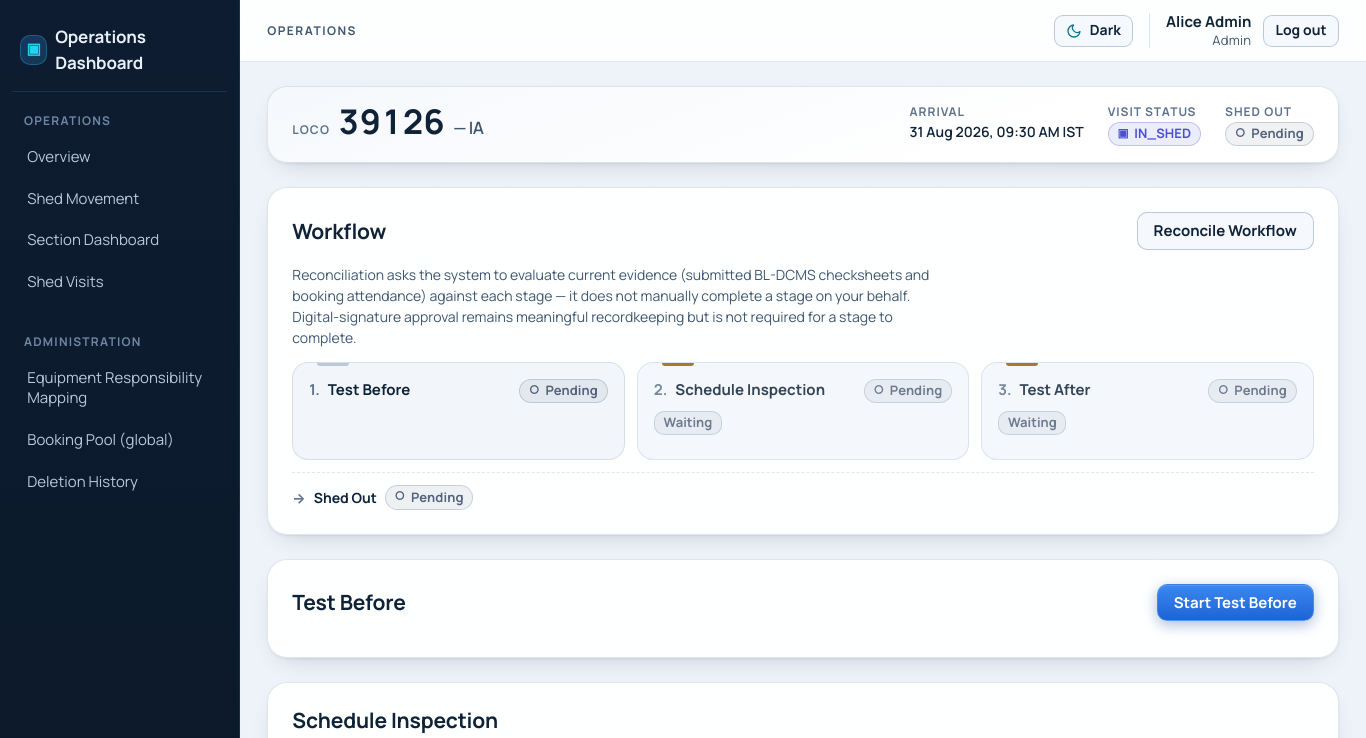
ShedVisitWorkflowPage › shows a pending-evidence message when required checksheets are not yet APPROVED
Click the button "Start Test Before" at (1235, 602), box [1157,584,1314,621]
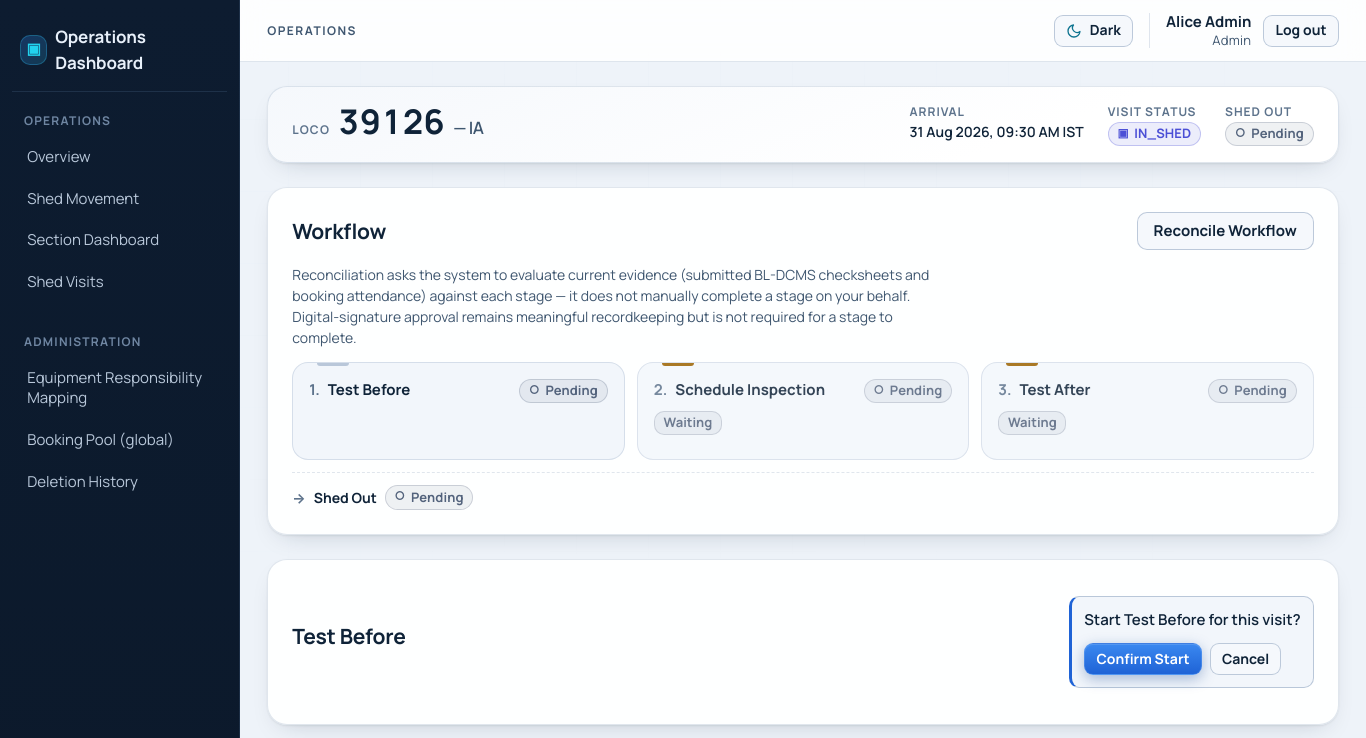
Click the button "Confirm Start" at (1143, 659), box [1084,643,1202,675]
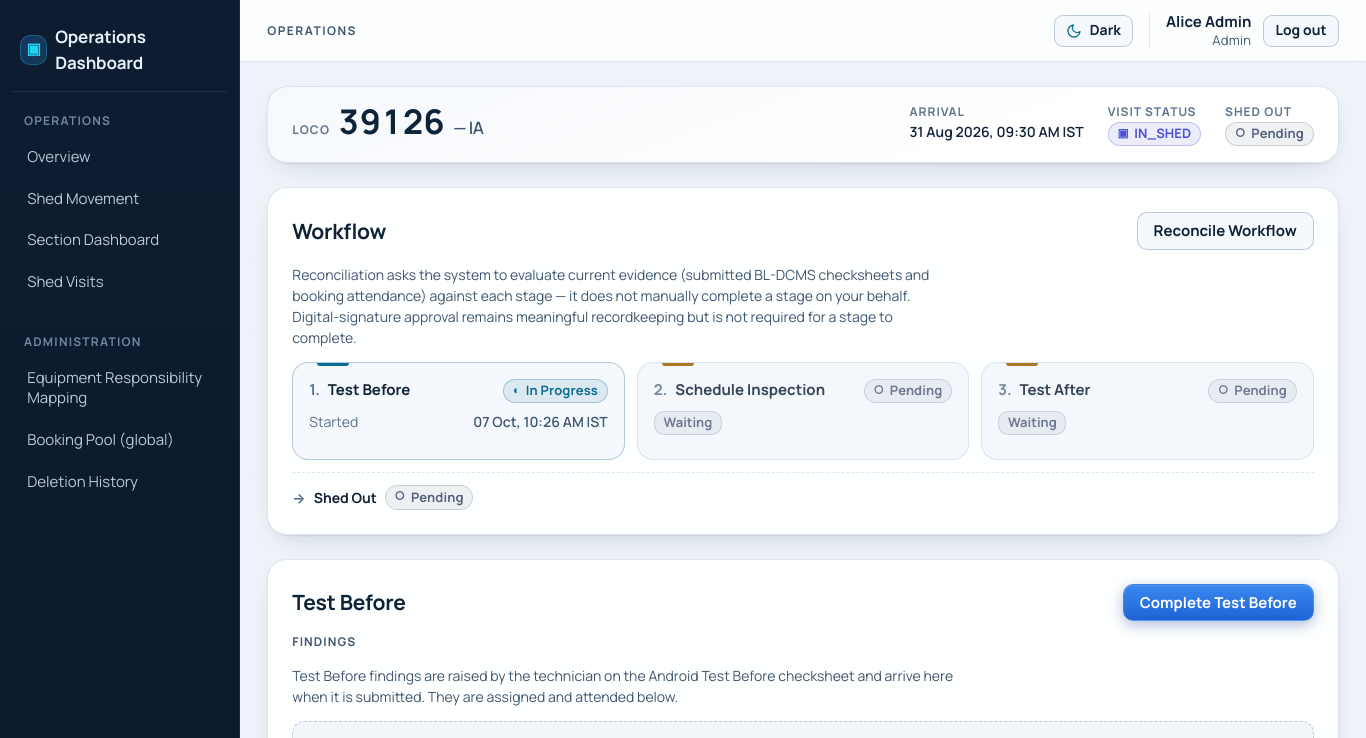
Click the button "Complete Test Before" at (1218, 602), box [1123,584,1314,621]
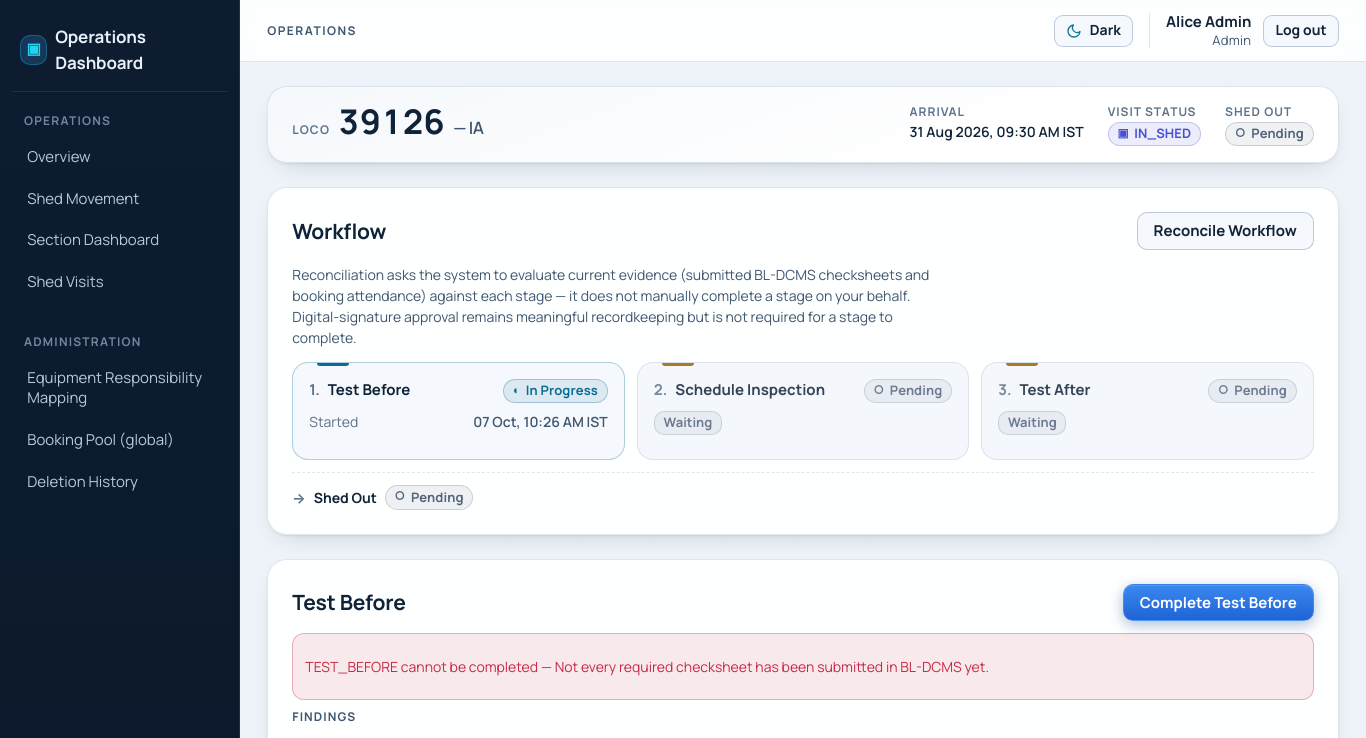
Check: the text "not every required checksheet has been submitted in bl-dcms yet" is shown, box [555,657,989,676]
